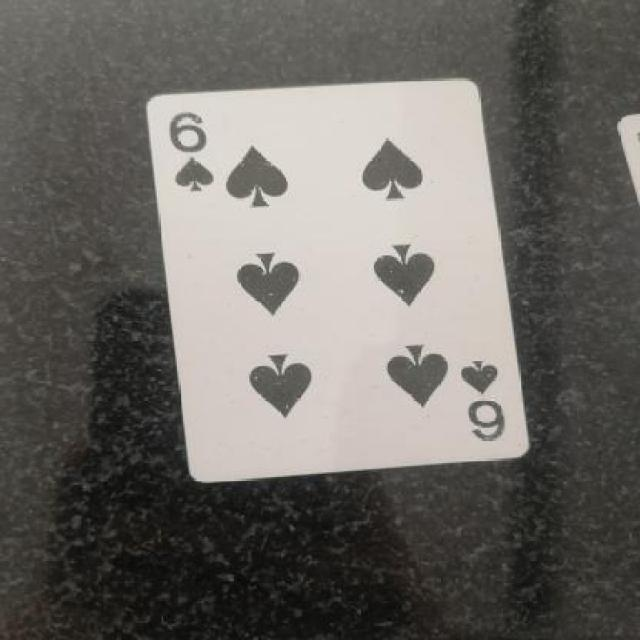6S: (139, 112, 232, 197), (454, 357, 518, 446)
